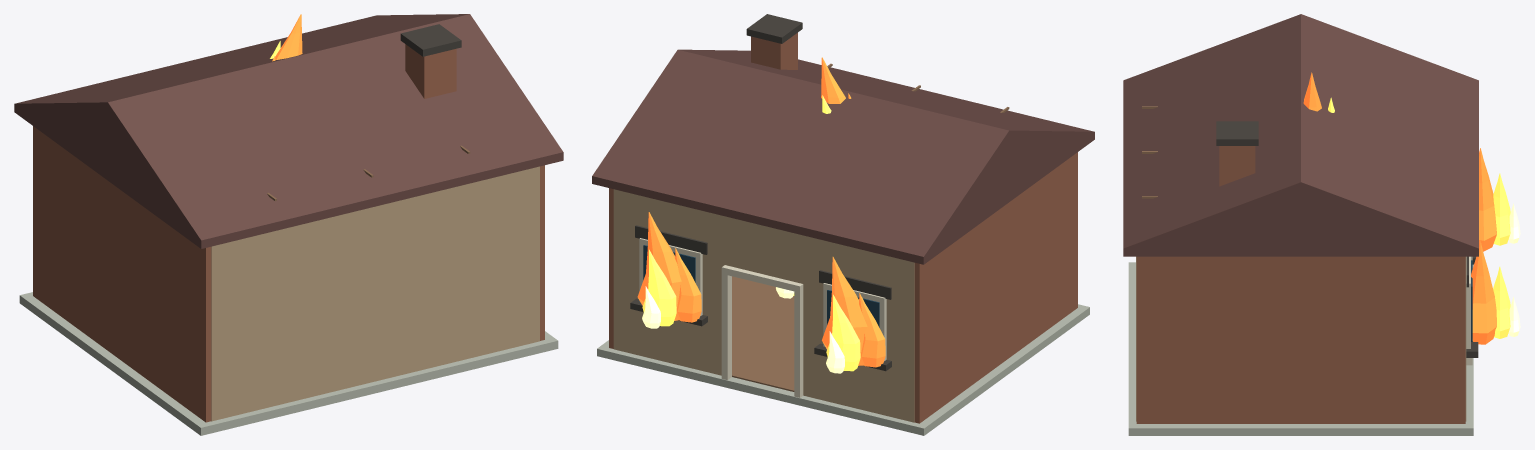
The model's file is house-burning.glb.
3 views of the same model, side by side, from view 1: azimuth 30°, elevation 25°; view 2: azimuth 150°, elevation 25°; view 3: azimuth 270°, elevation 25° (orthographic). The views are drawn at different scales.
Visible parts, largest first — view 1: Roof_roof, BurningHouseRoot_plaster, BurningHouseRoot_brick, BurningHouseRoot_curb, Roof_brick, Roof_soot, ExteriorTarget3High_flame; view 2: Roof_roof, CutawayFront_plaster, BurningHouseRoot_brick, BurningHouseRoot_curb, BurningHouseRoot_wood, CutawayFront_cream, ExteriorTarget1High_flame, ExteriorTarget2High_flame, CutawayFront_soot, Roof_brick, ExteriorTarget2High_flameLight, ExteriorTarget1High_flameLight (+5 smaller); view 3: Roof_roof, BurningHouseRoot_brick, BurningHouseRoot_curb, ExteriorTarget2High_flame, ExteriorTarget1High_flame, Roof_brick, Roof_soot, ExteriorTarget1High_flameLight, ExteriorTarget2High_flameLight, CutawayFront_cream, ExteriorTarget3High_flame.
Part boxes in pixels (x1,y1,x2,y2): Roof_roof: (14, 14, 563, 248); BurningHouseRoot_plaster: (211, 166, 539, 421); BurningHouseRoot_brick: (33, 126, 544, 422); BurningHouseRoot_curb: (19, 292, 558, 435); Roof_brick: (405, 44, 456, 98); Roof_soot: (400, 24, 461, 56); ExteriorTarget3High_flame: (272, 14, 302, 61); Roof_roof: (592, 49, 1094, 264); CutawayFront_plaster: (613, 189, 914, 422); BurningHouseRoot_brick: (609, 152, 1077, 423); BurningHouseRoot_curb: (597, 304, 1089, 435); BurningHouseRoot_wood: (732, 276, 794, 391); CutawayFront_cream: (639, 238, 886, 397); ExteriorTarget1High_flame: (822, 257, 885, 367); ExteriorTarget2High_flame: (637, 212, 701, 322); CutawayFront_soot: (630, 225, 891, 371); Roof_brick: (751, 32, 797, 69); ExteriorTarget2High_flameLight: (642, 249, 676, 326); ExteriorTarget1High_flameLight: (826, 294, 860, 371); Roof_roof: (1123, 14, 1478, 256); BurningHouseRoot_brick: (1136, 256, 1465, 423); BurningHouseRoot_curb: (1128, 262, 1473, 435); ExteriorTarget2High_flame: (1471, 241, 1496, 344); ExteriorTarget1High_flame: (1479, 148, 1496, 251); Roof_brick: (1219, 146, 1255, 186); Roof_soot: (1216, 121, 1258, 145); ExteriorTarget1High_flameLight: (1493, 173, 1510, 245); ExteriorTarget2High_flameLight: (1493, 266, 1510, 338); CutawayFront_cream: (1466, 256, 1472, 365); ExteriorTarget3High_flame: (1303, 72, 1321, 111).
Size of what is drawn, in the model's own units: 7.5 by 6 by 7.49.
